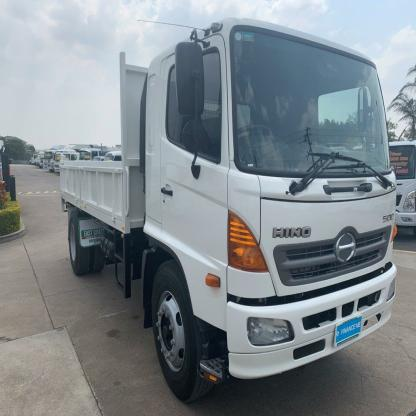dump_truck: (49, 16, 399, 408)
